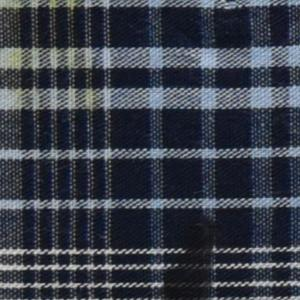Stain: (1, 1, 108, 122), (162, 215, 224, 300)
